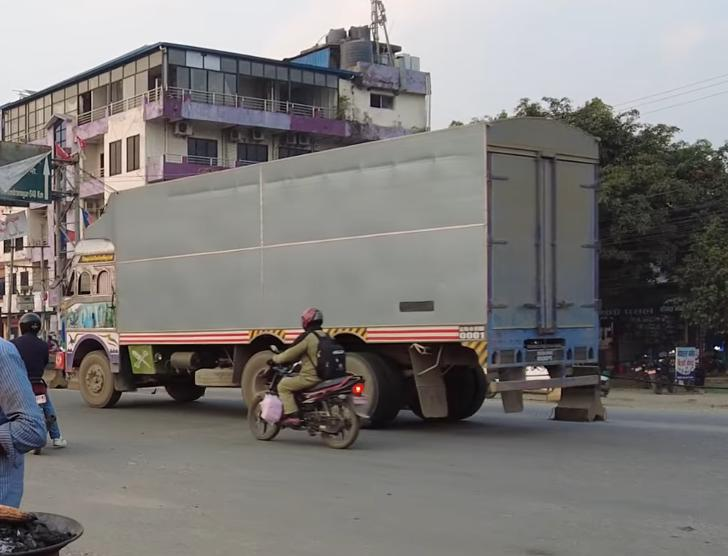bike: (246, 344, 366, 449)
truck: (47, 115, 608, 430)
